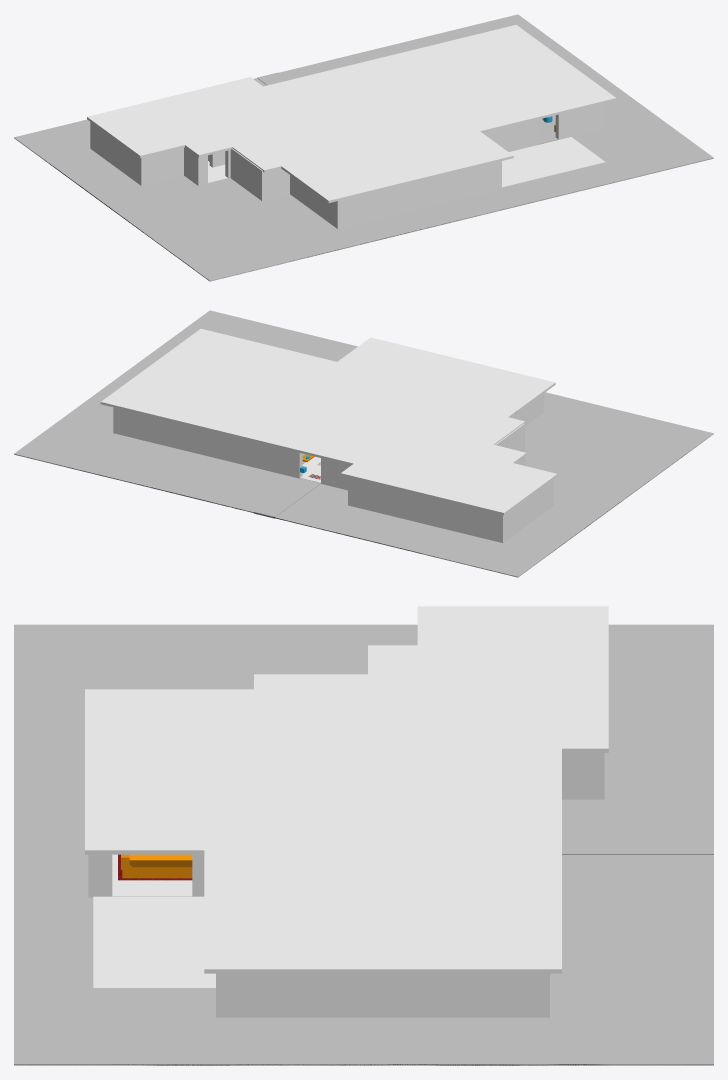
Rendered from World.fbx.
3 views of the same model, one above another, from view 1: azimuth 30°, elevation 25°; view 2: azimuth 150°, elevation 25°; view 3: azimuth 270°, elevation 25° (orthographic). The views are drawn at different scales.
Visible parts, largest first — view 1: Roof, Grass, Wall__4_, Gravel_garden, Wall__14_, Wall__2_, Wall__13_, Wall__9_, Wall__5_, Wall__7_, Wall__6_, Tiles_left; view 2: Roof, Grass, Wall, Wall__15_, Wall__14_, Path_front, Wall__20_, Grass__1_, Wall__5_; view 3: Roof, Grass, Wall__1_, Gravel_garden, Path_front, Wall__16_, Floor_2, Wall__10_, Couch_3, Couch_1, Grass__1_.
Boxes of the visible parts, x1,y1,x2,y2 form: Roof: (87, 25, 616, 202); Grass: (14, 14, 713, 281); Wall__4_: (338, 161, 501, 228); Gravel_garden: (502, 137, 605, 187); Wall__14_: (92, 123, 141, 185); Wall__2_: (555, 103, 603, 139); Wall__13_: (141, 147, 183, 185); Wall__9_: (483, 119, 537, 151); Wall__5_: (290, 175, 342, 228); Wall__7_: (230, 148, 266, 199); Wall__6_: (259, 168, 289, 200); Tiles_left: (537, 117, 558, 144); Roof: (100, 328, 557, 515); Grass: (14, 310, 713, 577); Wall: (113, 407, 302, 478); Wall__15_: (348, 477, 505, 542); Wall__14_: (505, 479, 553, 541); Path_front: (254, 478, 320, 518); Wall__20_: (321, 458, 350, 490); Grass__1_: (42, 434, 713, 576); Wall__5_: (511, 393, 544, 426); Roof: (85, 606, 608, 973); Grass: (14, 624, 713, 1065); Wall__1_: (217, 973, 549, 1017); Gravel_garden: (93, 896, 215, 988); Path_front: (562, 835, 713, 854); Wall__16_: (562, 753, 602, 799); Floor_2: (112, 854, 192, 896); Wall__10_: (88, 854, 112, 897); Couch_3: (129, 854, 192, 867); Couch_1: (122, 867, 192, 878); Grass__1_: (14, 1064, 712, 1065).
Bounding box in the file's own units: 6000 × 413 × 4040.
